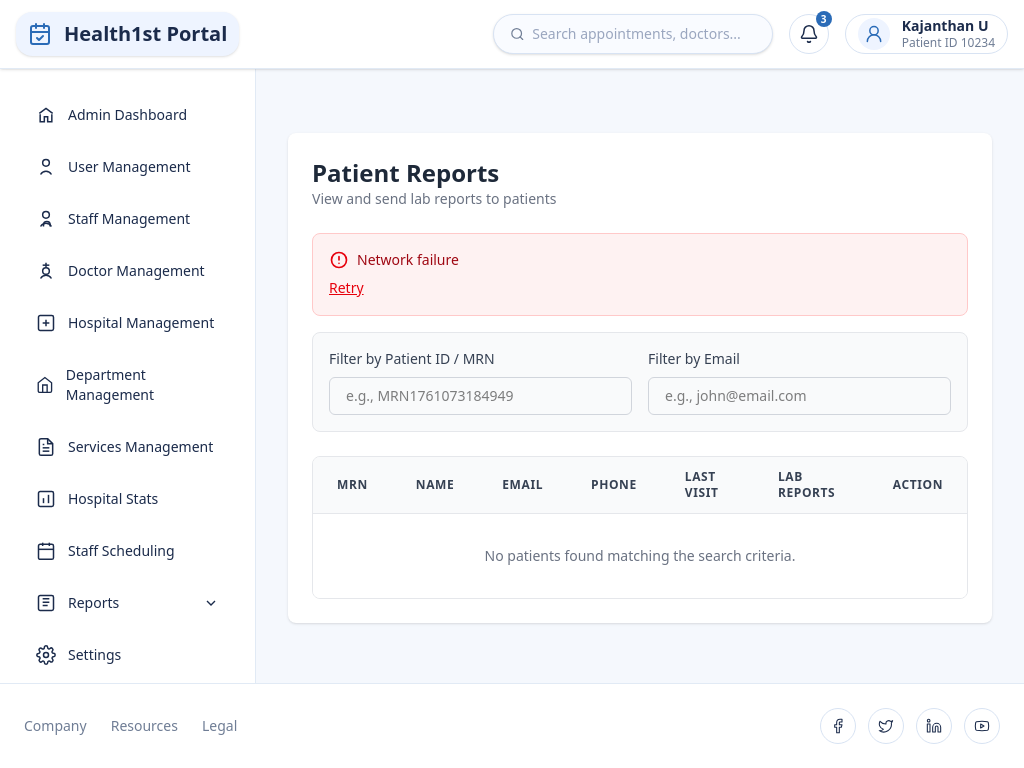
Test: PatientReports › shows error panel and allows retry on load failure
Expected: the text "Network failure" is shown, left=357, top=250, right=459, bottom=270
Note: Click Retry
Click the button "Retry".
click(346, 288)  # box left=329, top=278, right=364, bottom=298
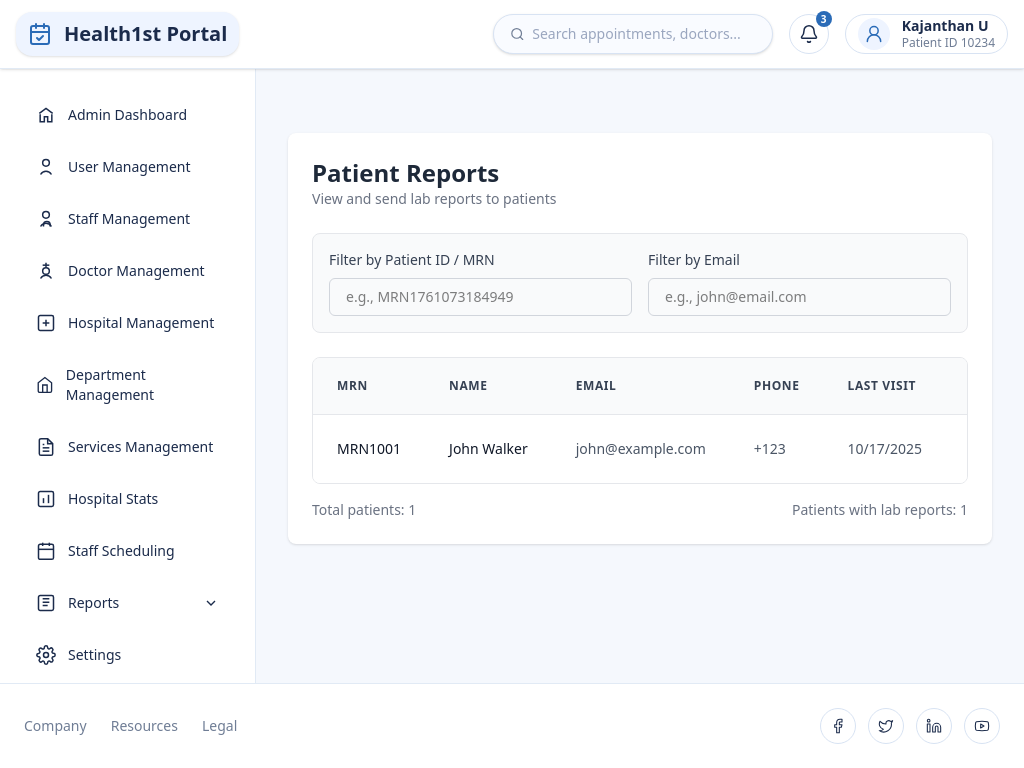
Result: the text "MRN1001" is shown at left=313, top=414, right=425, bottom=483
